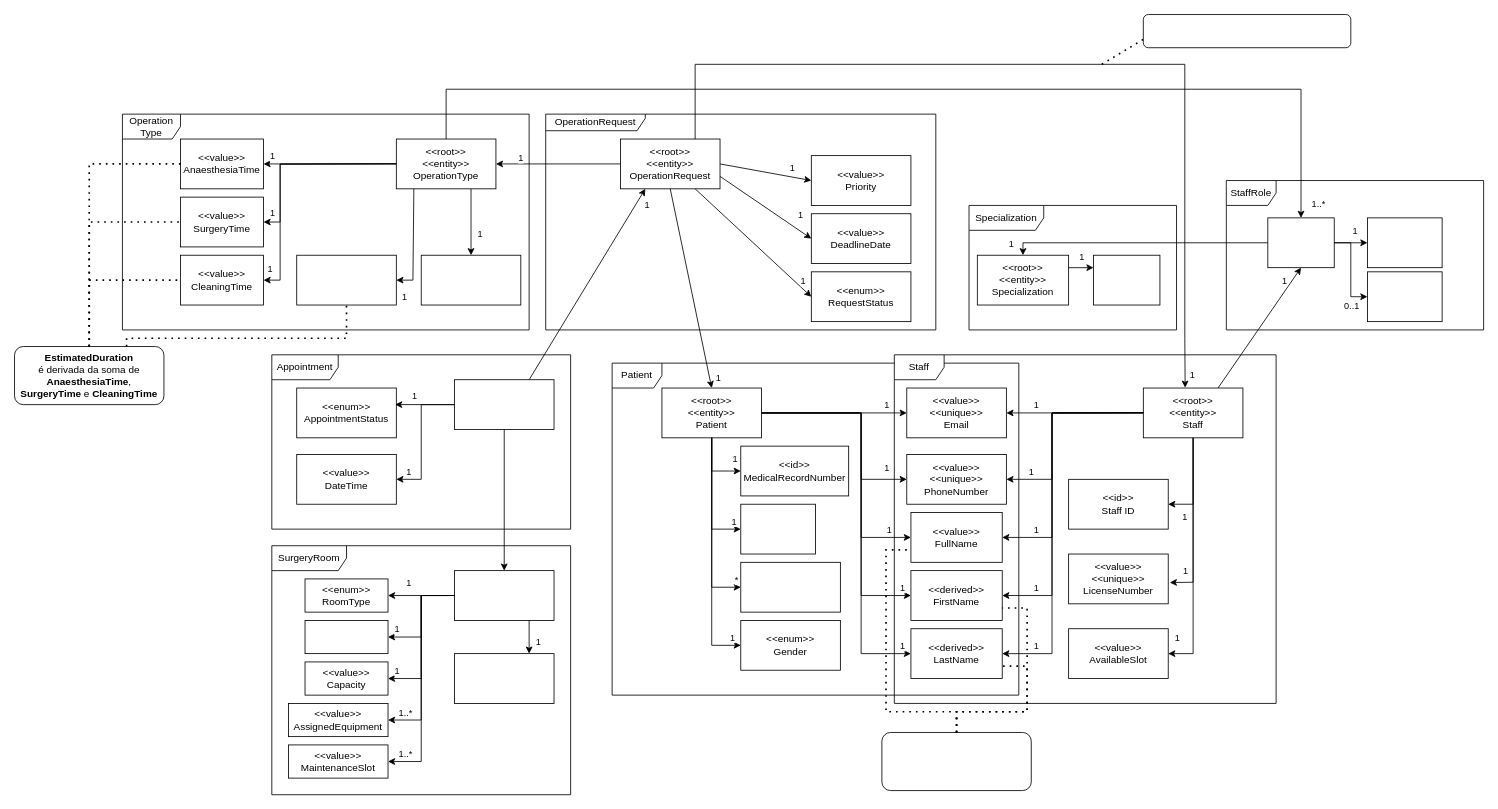
This 1498x809 diagram has some shape labels left out. Each missing label, with the centre of its shape:
"<<derived>> EstimatedDuration" belongs at (x=346, y=279).
"<<enum>> DoctorType" belongs at (x=1404, y=296).
"<<enum>> RoomStatus" belongs at (x=346, y=637).
"<<enum>> StaffRoleName" belongs at (x=1404, y=242).
"<<id>> RoomNumber" belongs at (x=504, y=678).
"<<root>> <<entity>> Appointment" belongs at (x=504, y=404).
"<<root>> <<entity>> StaffRole" belongs at (x=1300, y=242).
"<<root>> <<entity>> SurgeryRoom" belongs at (x=504, y=595).
"<<value>> Allergy" belongs at (x=790, y=586).
"<<value>> DateOfBirth" belongs at (x=777, y=528).
"<<value>> Name" belongs at (x=1126, y=279).
"<<value>> OperationName" belongs at (x=470, y=279).
"FirstName e LastName são derivados de FullName" belongs at (x=956, y=761).
"Staff.StaffRole.StaffRoleName = Doctor" belongs at (x=1246, y=31).
